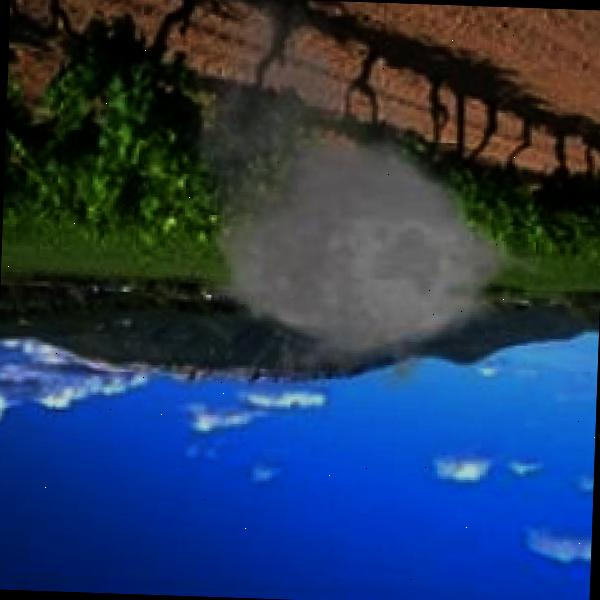smoke: (164, 0, 570, 410)
